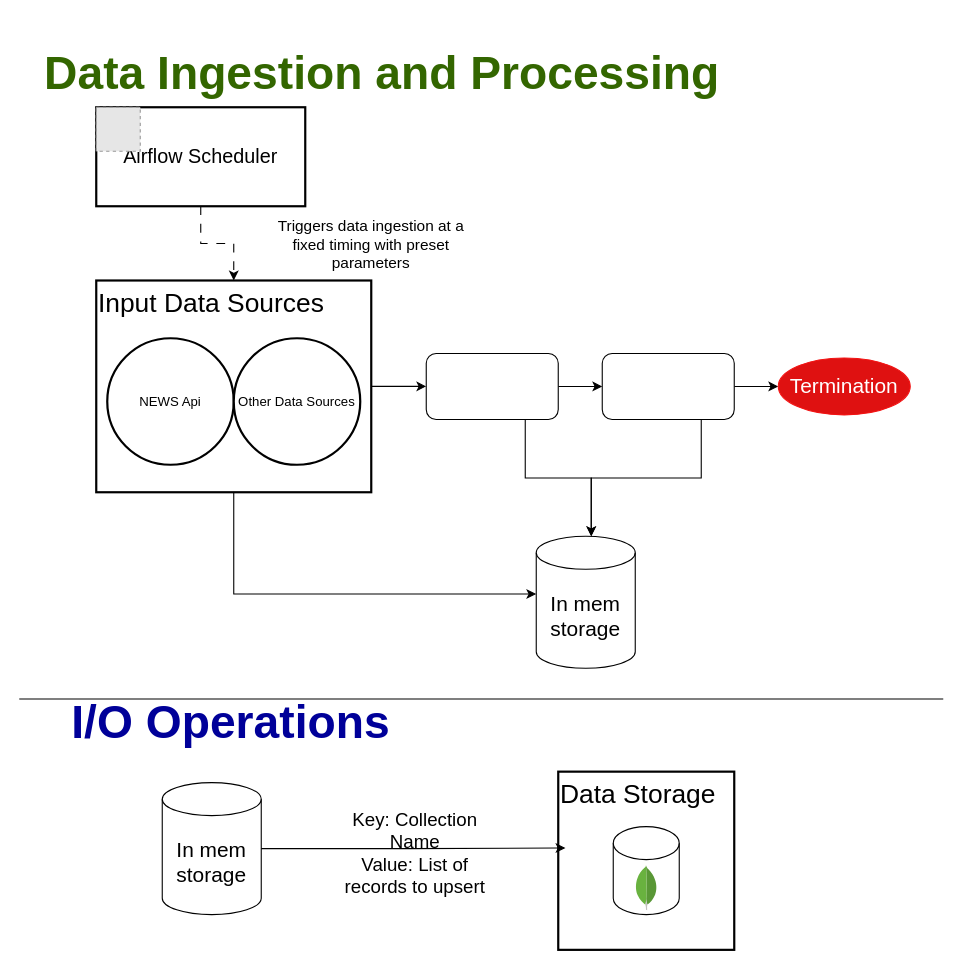
Image size: 964x969. Some labels were removed from this diagram. Grey dashed boxes stand in for pictures. Each missing label, with the centre of its shape:
"Other Processing Services, e.g. NER" goes at (x=667, y=385).
"Sentence Split" goes at (x=491, y=385).
